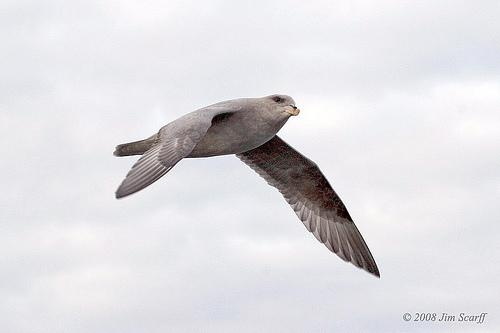bird: (111, 93, 384, 278)
